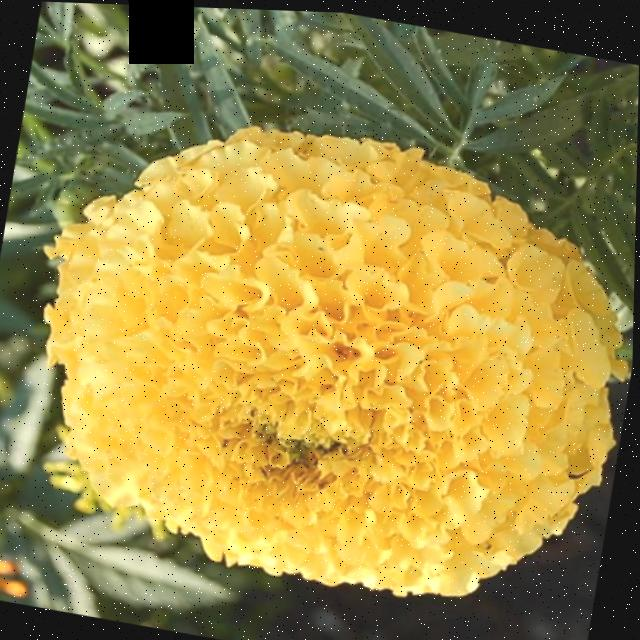marigold: (35, 17, 640, 640)
